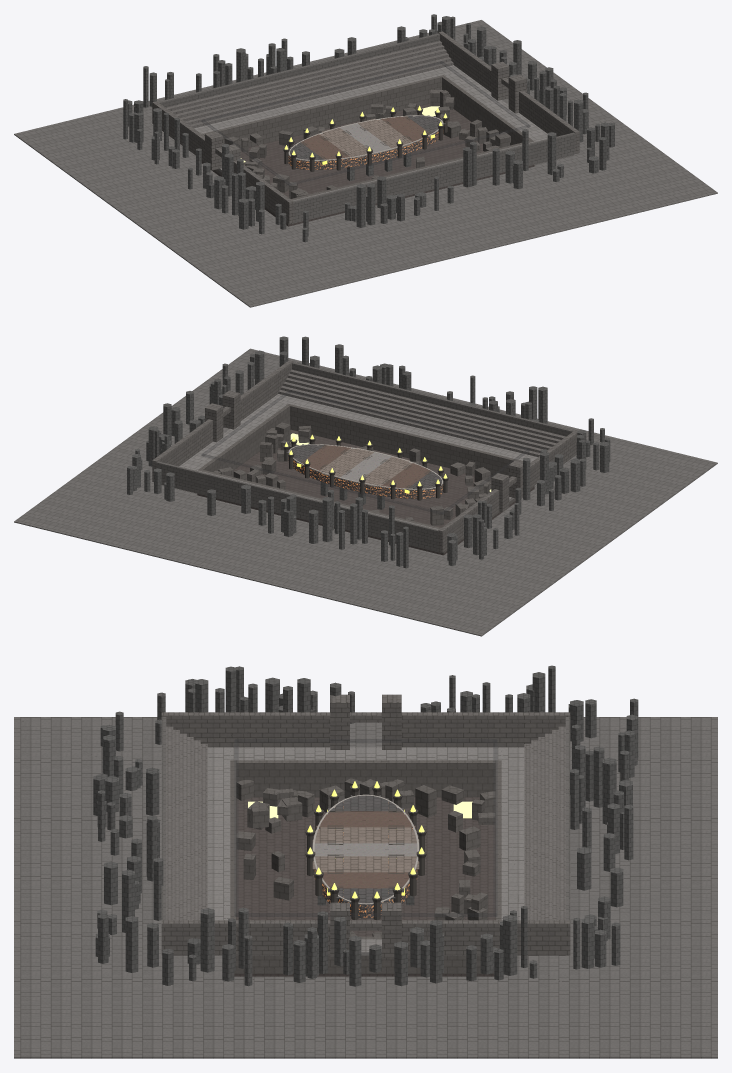
File: arena_14x34.gltf
The picture shows the model from 3 angles, top to bottom: view 1: azimuth 30°, elevation 25°; view 2: azimuth 150°, elevation 25°; view 3: azimuth 270°, elevation 25°; orthographic projection. The views are drawn at different scales.
Parts seen in each view (by area): view 1: walk, basalt, tank, tiers, back, end_walls, floor, rim, face, lantern_posts, deck_s0_z1, deck_s1_z1 (+3 smaller); view 2: walk, basalt, tank, tiers, back, end_walls, floor, rim, face, lantern_posts, deck_s0_z1, deck_s1_z1 (+3 smaller); view 3: walk, basalt, end_walls, tank, tiers, floor, rim, back, lantern_posts, deck_s1_z1, deck_s0_z1, deck_s0_z2 (+5 smaller).
Boxes of the visible parts, x1,y1,x2,y2 form: walk: (14, 20, 717, 307); basalt: (123, 14, 614, 242); tank: (201, 75, 534, 224); tiers: (166, 41, 573, 223); back: (158, 33, 575, 222); end_walls: (152, 31, 579, 223); floor: (201, 103, 534, 226); rim: (201, 61, 530, 185); face: (288, 120, 443, 169); lantern_posts: (283, 108, 448, 171); deck_s0_z1: (320, 127, 374, 158); deck_s1_z1: (358, 118, 411, 149); walk: (14, 348, 717, 636); basalt: (127, 336, 610, 568); tank: (198, 404, 534, 553); tiers: (161, 369, 565, 552); back: (156, 362, 573, 551); end_walls: (152, 360, 577, 552); floor: (197, 429, 534, 555); rim: (201, 390, 530, 514); face: (288, 448, 443, 498); lantern_posts: (283, 437, 448, 500); deck_s0_z1: (357, 456, 411, 486); deck_s1_z1: (320, 447, 373, 478); walk: (14, 717, 717, 1058); basalt: (93, 665, 638, 986); end_walls: (161, 694, 570, 957); tank: (230, 760, 501, 973); tiers: (166, 726, 565, 955); floor: (234, 797, 495, 976); rim: (234, 739, 497, 916); back: (161, 717, 570, 920); lantern_posts: (305, 785, 426, 919); deck_s1_z1: (312, 856, 419, 872); deck_s0_z1: (312, 827, 419, 843); deck_s0_z2: (316, 811, 415, 827).
Bounding box in the file's own units: 106 × 14.59 × 92.4.
Materials: 20 (20 with a texture image).
